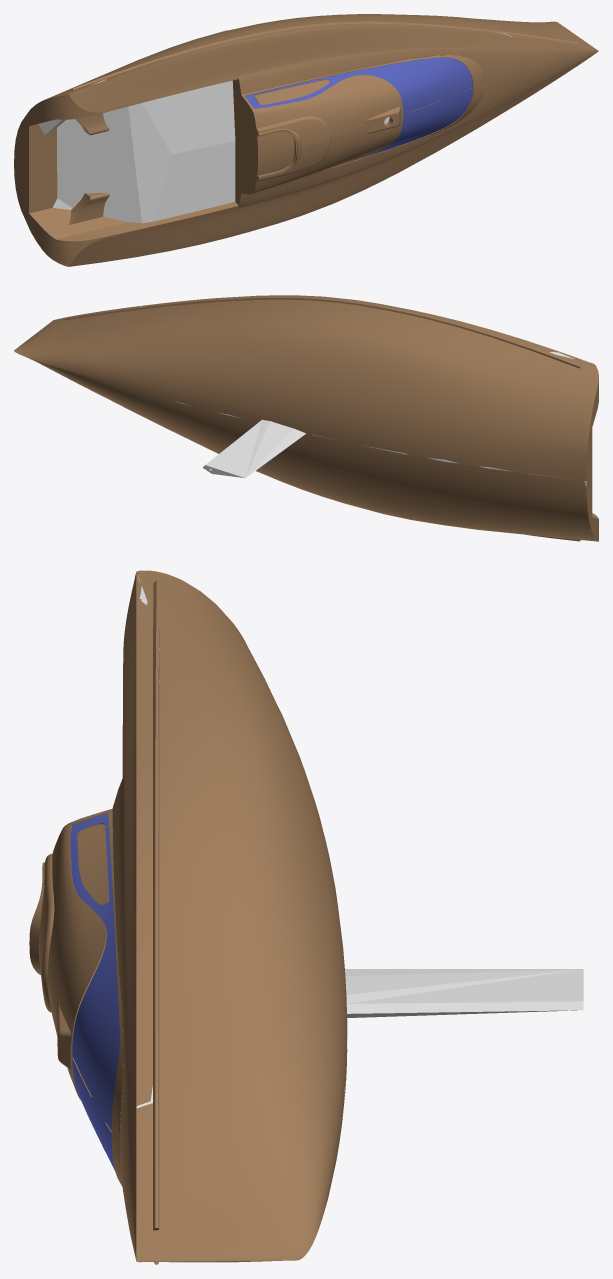
The model's file is saturn.fbx.
3 views of the same model, one above another, from view 1: azimuth 30°, elevation 25°; view 2: azimuth 150°, elevation 25°; view 3: azimuth 270°, elevation 25° (orthographic). The views are drawn at different scales.
Visible parts, largest first — view 1: Hull, Hull (1); view 2: Hull, Hull (1); view 3: Hull, Hull (1).
Part boxes in pixels (x1,y1,x2,y2): Hull: (14, 14, 598, 266); Hull (1): (14, 29, 511, 223); Hull: (14, 295, 598, 541); Hull (1): (140, 306, 591, 531); Hull: (29, 570, 347, 1264); Hull (1): (136, 576, 583, 1108).
Size of the model in its own units: 498 by 168 by 216.
